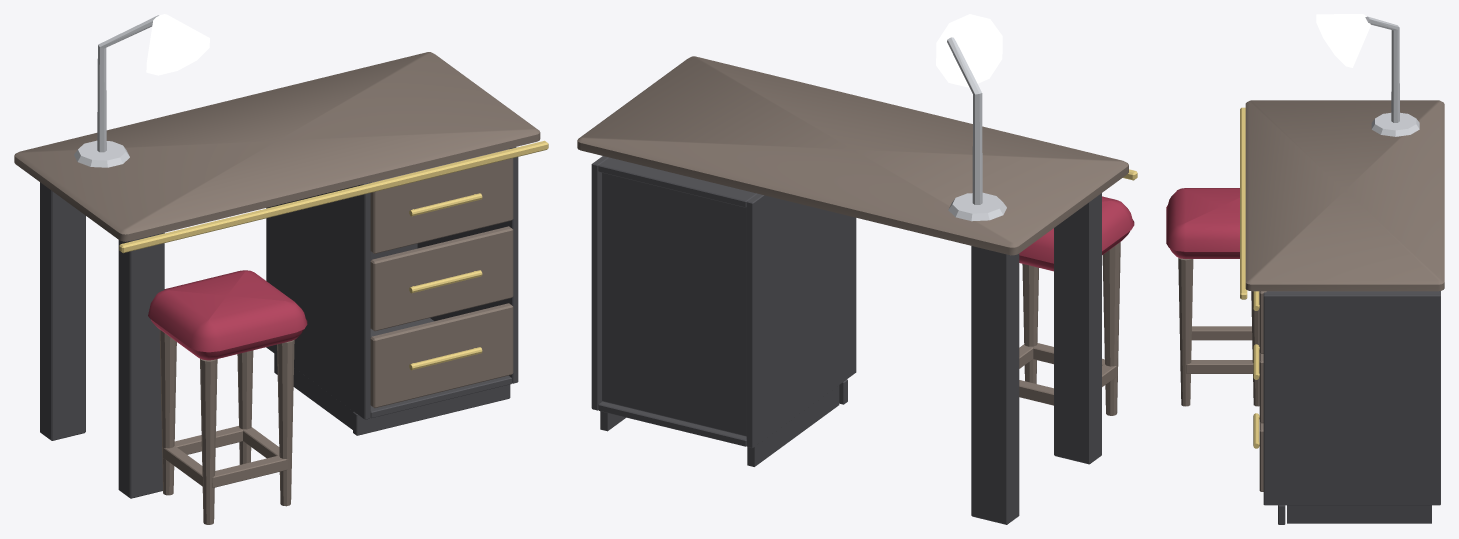
Rendered from theatre-stage-and-backstage-makeup-table-with-stool-efb91280__35913.glb.
3 views of the same model, side by side, from view 1: azimuth 30°, elevation 25°; view 2: azimuth 150°, elevation 25°; view 3: azimuth 270°, elevation 25° (orthographic). The views are drawn at different scales.
Visible parts, largest first — view 1: makeup-table-with-stool; view 2: makeup-table-with-stool; view 3: makeup-table-with-stool.
Boxes of the visible parts, left/top/right/bottom form: makeup-table-with-stool: left=14, top=14, right=548, bottom=524; makeup-table-with-stool: left=577, top=14, right=1137, bottom=524; makeup-table-with-stool: left=1166, top=14, right=1444, bottom=524.
Bounding box in the file's own units: 1.22 × 1.16 × 0.7685.
